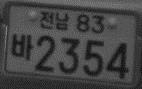2: (33, 34, 56, 73)
3: (58, 36, 79, 74), (90, 14, 105, 34)
4: (105, 41, 129, 79)
5: (81, 38, 105, 76)
8: (76, 13, 90, 32)
바: (10, 32, 34, 62)
전남_H: (37, 10, 71, 30)
